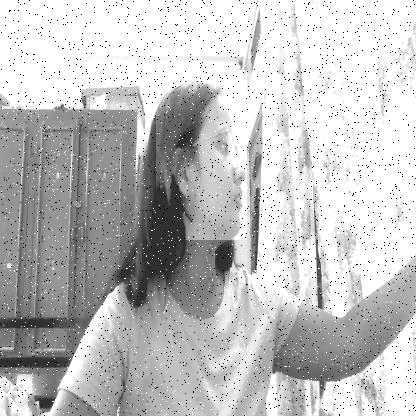Distracted: (156, 70, 247, 240)
